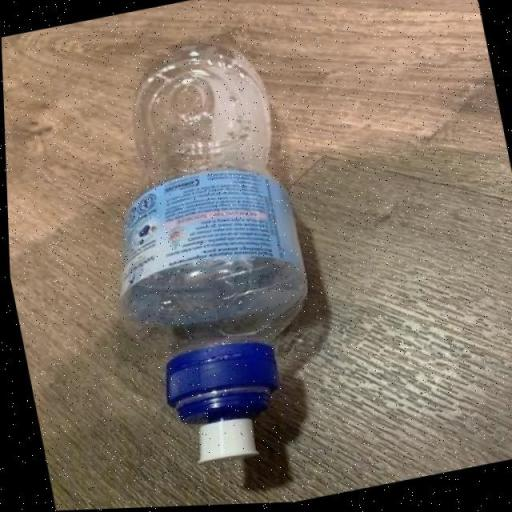plastic: (64, 29, 342, 483)
